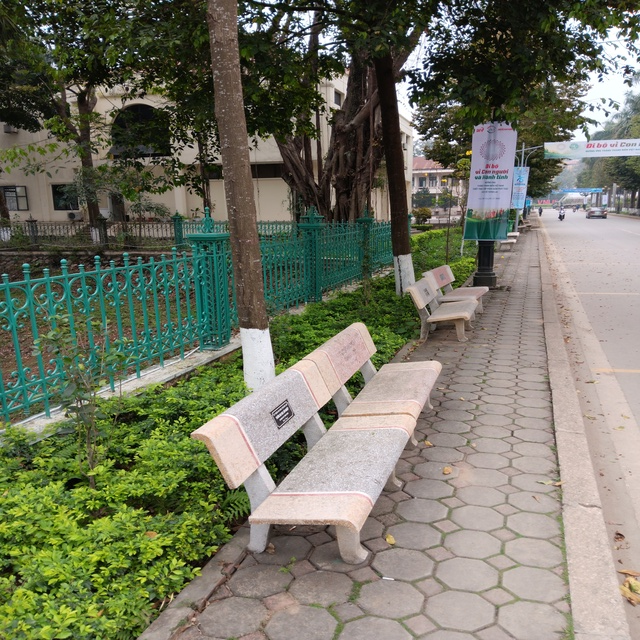gheda: (174, 362, 416, 570), (299, 316, 460, 455), (394, 280, 483, 348), (424, 261, 493, 315)
